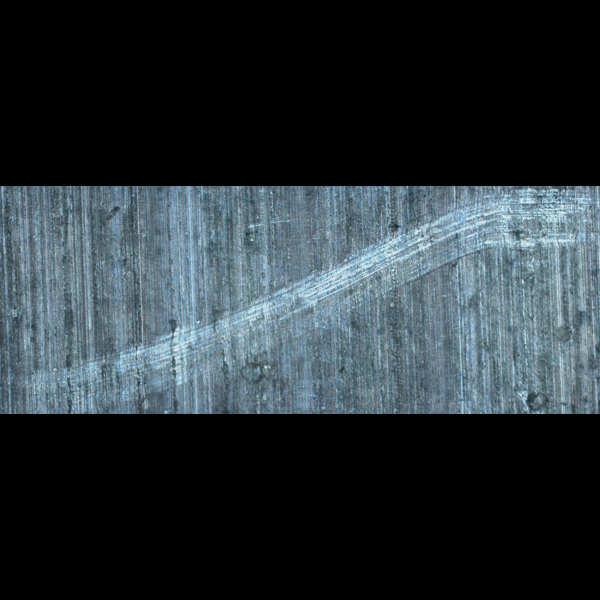d: (423, 186, 599, 252), (29, 337, 183, 402), (162, 297, 317, 359), (315, 239, 442, 301)
